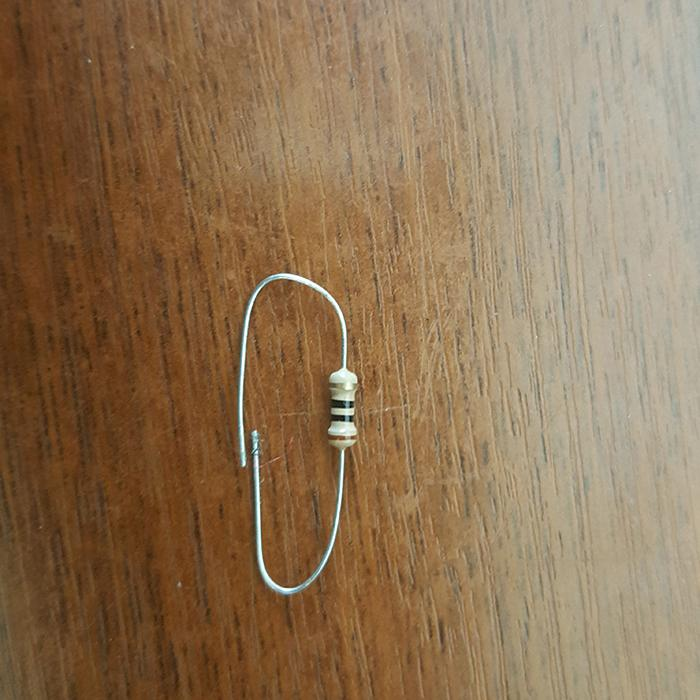resistor: (327, 369, 358, 447)
